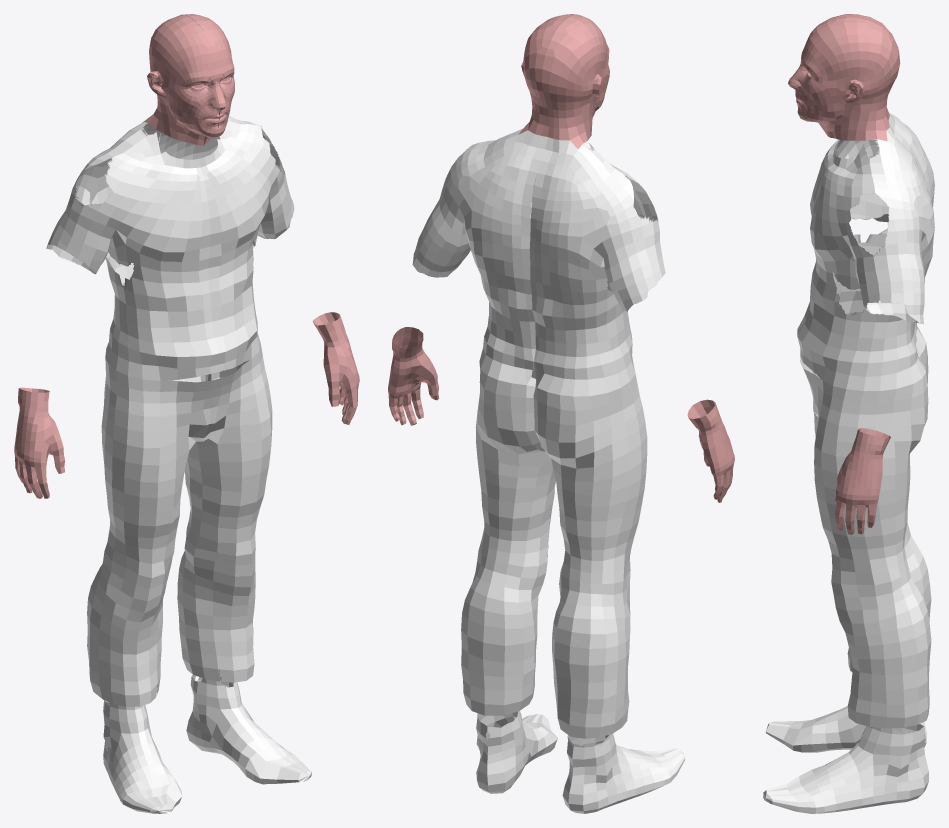
The model's file is personMale.fbx.
The picture shows the model from 3 angles, left to right: view 1: azimuth 30°, elevation 25°; view 2: azimuth 150°, elevation 25°; view 3: azimuth 270°, elevation 25°; orthographic projection.
Visible parts, largest first — view 1: Realistic_White_Male_Low_Poly; view 2: Realistic_White_Male_Low_Poly; view 3: Realistic_White_Male_Low_Poly.
Part boxes in pixels (x1,y1,x2,y2): Realistic_White_Male_Low_Poly: (14,14,359,813); Realistic_White_Male_Low_Poly: (388,14,734,813); Realistic_White_Male_Low_Poly: (763,14,934,813).
Size of the model in its own units: 13.49 by 29.11 by 5.98.
Materials: 4 (3 with a texture image).
